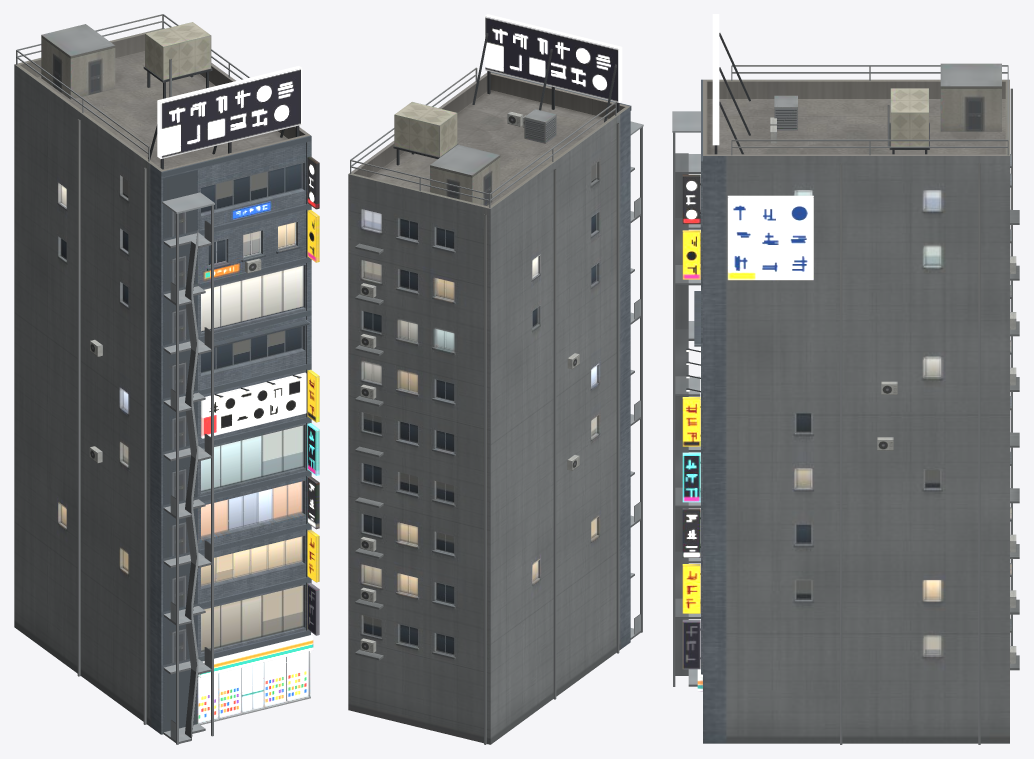
The model's file is tokyo_zakkyo_b.glb.
3 renders of one model, left to right at view 1: azimuth 30°, elevation 25°; view 2: azimuth 150°, elevation 25°; view 3: azimuth 270°, elevation 25°, orthographic. The views are drawn at different scales.
Visible parts, largest first — view 1: tokyo_zakkyo_b; view 2: tokyo_zakkyo_b; view 3: tokyo_zakkyo_b.
Boxes of the visible parts, bbox=[...] form: tokyo_zakkyo_b: bbox=[14, 14, 319, 744]; tokyo_zakkyo_b: bbox=[348, 14, 643, 744]; tokyo_zakkyo_b: bbox=[672, 14, 1019, 744].
Size of the model in its own units: 10.04 by 37.7 by 18.1.
1 material, 1 textured.
